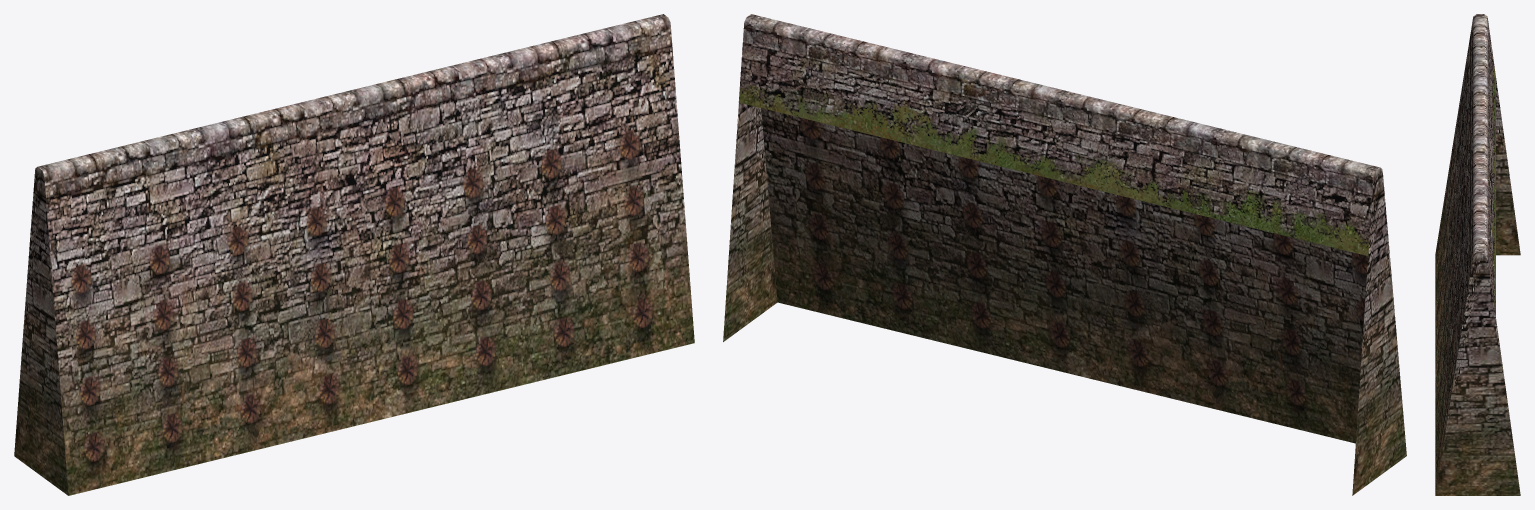
Rendered from celt_wall_med.dae.
The picture shows the model from 3 angles, left to right: view 1: azimuth 30°, elevation 25°; view 2: azimuth 150°, elevation 25°; view 3: azimuth 270°, elevation 25°; orthographic projection. The views are drawn at different scales.
Visible parts, largest first — view 1: wall04-Pivot; view 2: wall04-Pivot; view 3: wall04-Pivot.
Boxes of the visible parts, box(x1,y1,x2,y2) form: wall04-Pivot: box(14, 14, 694, 495); wall04-Pivot: box(723, 14, 1406, 495); wall04-Pivot: box(1435, 14, 1520, 495).
Bounding box in the file's own units: 20.01 × 3 × 9.35.
